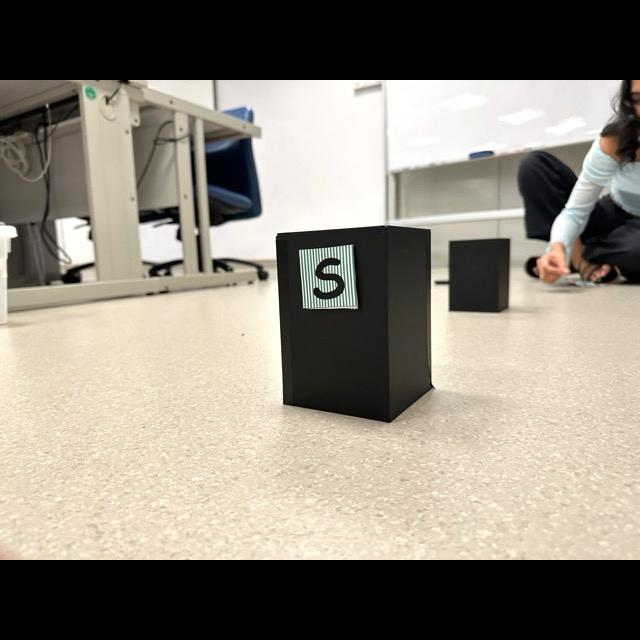S: (314, 258, 345, 299)
